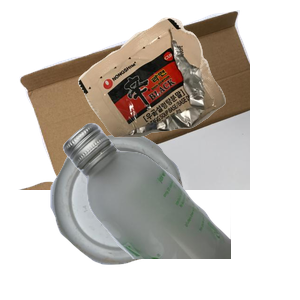cardboard: (16, 10, 256, 190)
glass: (60, 120, 300, 300)
plastic: (48, 132, 224, 300)
trash: (76, 15, 300, 145)
